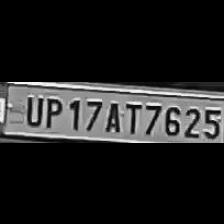1: (64, 96, 80, 130)
2: (180, 104, 200, 138)
5: (200, 104, 222, 138)
6: (160, 102, 180, 136)
7: (82, 96, 100, 132), (140, 100, 158, 134)
A: (101, 97, 121, 132)
P: (42, 94, 62, 128)
T: (122, 99, 140, 134)
U: (22, 92, 42, 126)
